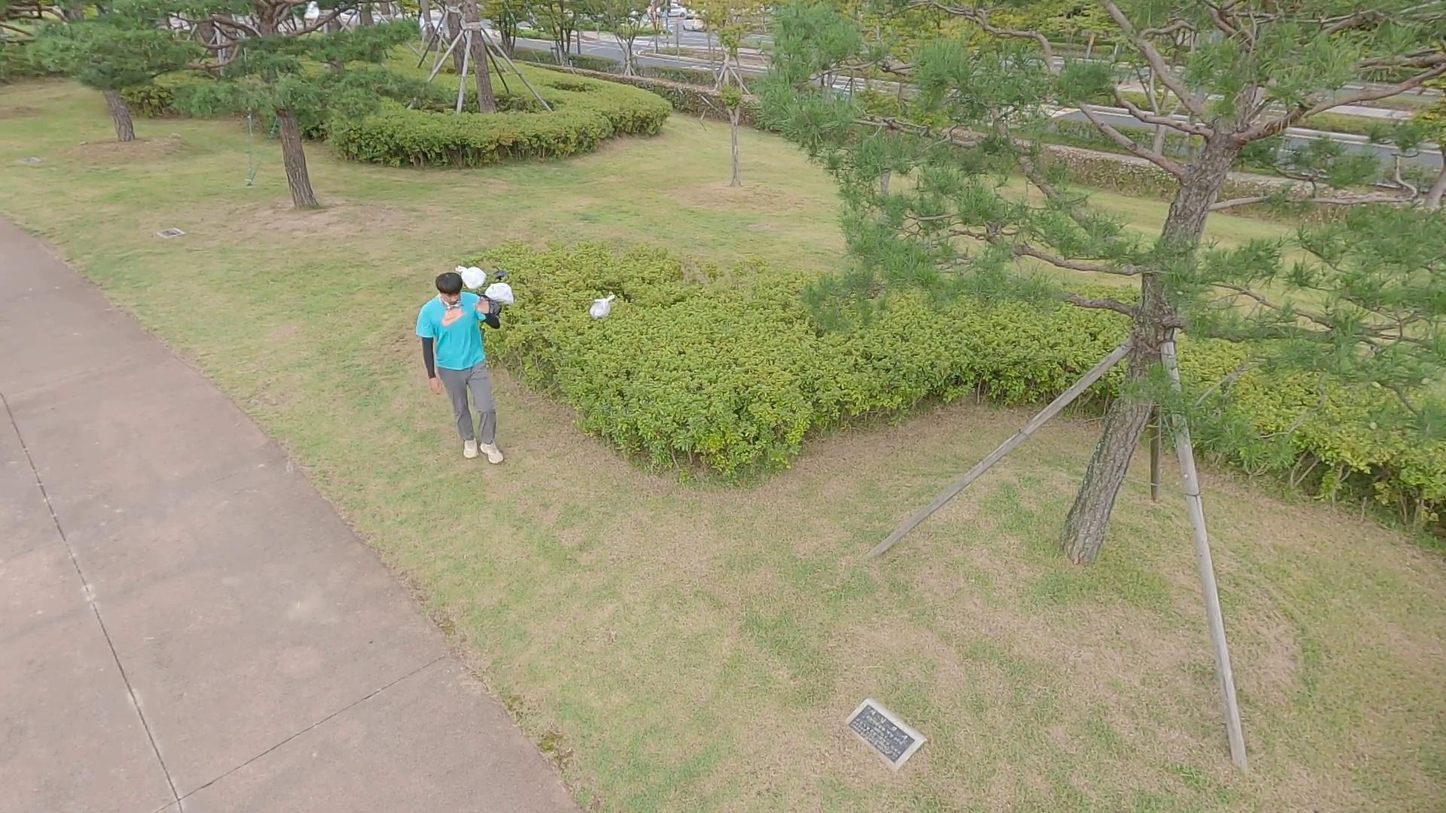person: (414, 274, 501, 466)
trash: (453, 265, 485, 289), (482, 282, 515, 304), (591, 294, 615, 318), (491, 264, 506, 282), (485, 298, 501, 314)
